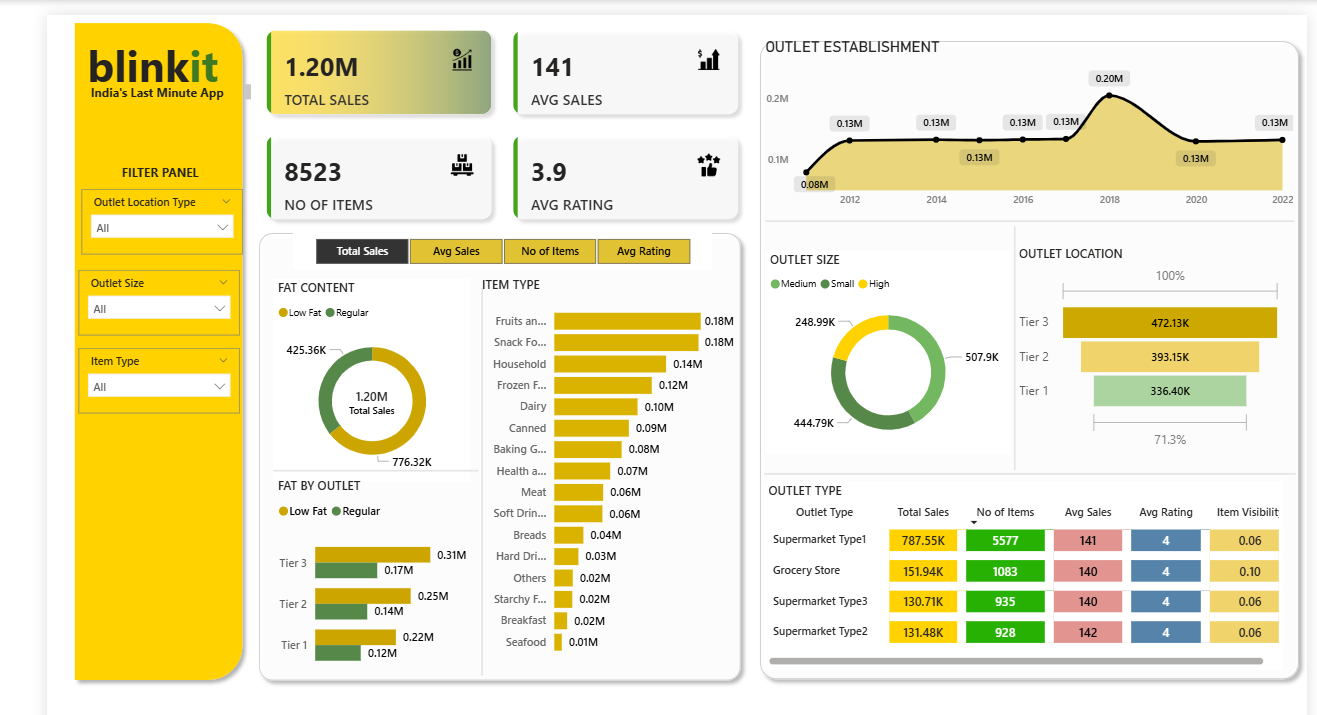

Layout of this report page (visuals, bound fields, positions):
{"tool":"powerbi","page":{"name":"Page 1","canvas":[1400,800],"ordinal":0},"visuals":[{"type":"shape","box":[22.4,0,204.5,747.8],"z":0},{"type":"textbox","box":[39.6,17.2,168.8,82.7],"z":1000},{"type":"textbox","box":[274.5,0,205,748],"z":2000},{"type":"textbox","box":[596.1,51.7,205,747.7],"z":3000},{"type":"textbox","box":[22.4,72.4,210.2,27.6],"z":4000},{"type":"cardVisual","fields":{"Data":["BlinkIT Grocery Data.Total Sales","BlinkIT Grocery Data.Avg Sales","BlinkIT Grocery Data.No of Items","BlinkIT Grocery Data.Avg Rating"]},"box":[225.9,0,558.2,245.9],"z":5000},{"type":"shape","box":[227.4,232.6,553,515.1],"z":6000},{"type":"donutChart","title":"FAT CONTENT","fields":{"Y":["BlinkIT Grocery Data.Total Sales"],"Category":["BlinkIT Grocery Data.Item Fat Content"]},"box":[251.5,292.9,218.8,225.7],"z":7000},{"type":"cardVisual","fields":{"Data":["BlinkIT Grocery Data.Total Sales"]},"box":[303.2,384.2,115.4,91.3],"z":8000},{"type":"clusteredBarChart","title":"FAT BY OUTLET","fields":{"Y":["BlinkIT Grocery Data.Total Sales"],"Category":["BlinkIT Grocery Data.Outlet Location Type"],"Series":["BlinkIT Grocery Data.Item Fat Content"]},"box":[251.5,513.4,218.8,229.1],"z":9000},{"type":"shape","box":[861.3,271.6,212.5,238.1],"z":10000},{"type":"shape","box":[377.3,303.2,213.6,430.7],"z":11000},{"type":"barChart","title":"ITEM TYPE","fields":{"Y":["BlinkIT Grocery Data.Total Sales"],"Category":["BlinkIT Grocery Data.Item Type"]},"box":[478.9,289.4,289.4,430.7],"z":12000},{"type":"shape","box":[783,20.8,616.8,727],"z":13000},{"type":"slicer","fields":{"Values":["Metrics 2.Metrics"]},"box":[273.9,241.2,465.1,41.3],"z":14000},{"type":"lineChart","title":"OUTLET ESTABLISHMENT","fields":{"Category":["BlinkIT Grocery Data.Outlet Establishment Year"],"Y":["BlinkIT Grocery Data.Total Sales"]},"box":[792.6,25.6,596,196.5],"z":15000},{"type":"shape","box":[797.6,156.8,587.5,144.7],"z":16000},{"type":"shape","box":[251.5,466.9,227.4,79.2],"z":17000},{"type":"donutChart","title":"OUTLET SIZE","fields":{"Category":["BlinkIT Grocery Data.Outlet Size"],"Y":["BlinkIT Grocery Data.Total Sales"]},"box":[797.6,261.9,272.2,225.7],"z":18000},{"type":"shape","box":[963,234.3,224,270.5],"z":19000},{"type":"funnel","title":"OUTLET LOCATION","fields":{"Y":["Sum(BlinkIT Grocery Data.Sales)"],"Category":["BlinkIT Grocery Data.Outlet Location Type"]},"box":[1075,255,301.5,230.8],"z":20000},{"type":"shape","box":[795.9,437.6,590.9,143],"z":21000},{"type":"pivotTable","title":"OUTLET TYPE","fields":{"Values":["BlinkIT Grocery Data.Total Sales","BlinkIT Grocery Data.No of Items","BlinkIT Grocery Data.Avg Sales","BlinkIT Grocery Data.Avg Rating","Avg(BlinkIT Grocery Data.Item Visibility)"],"Rows":["BlinkIT Grocery Data.Outlet Type"]},"box":[797.4,517.7,576.8,209.3],"z":22000},{"type":"slicer","fields":{"Values":["BlinkIT Grocery Data.Outlet Location Type"]},"box":[37.9,192.9,179.2,72.4],"z":23000},{"type":"slicer","fields":{"Values":["BlinkIT Grocery Data.Outlet Size"]},"box":[34.5,282.5,179.2,72.4],"z":24000},{"type":"slicer","fields":{"Values":["BlinkIT Grocery Data.Item Type"]},"box":[34.5,370.4,179.2,72.4],"z":25000},{"type":"textbox","box":[79.2,160.2,96.5,32.7],"z":26000}]}

Visuals, with their boxes on the page's 1400x800 design canvas (x1, y1, x2, y2). These are canvas units, not pixel positions in the 1317x715 screenshot, which may show the page scaled, cropped or inside an application window:
shape: locate(22, 0, 227, 748)
textbox: locate(40, 17, 208, 100)
textbox: locate(274, 0, 480, 748)
textbox: locate(596, 52, 801, 799)
textbox: locate(22, 72, 233, 100)
cardVisual - BlinkIT Grocery Data.Total Sales x BlinkIT Grocery Data.Avg Sales: locate(226, 0, 784, 246)
shape: locate(227, 233, 780, 748)
"FAT CONTENT" donutChart: locate(252, 293, 470, 519)
cardVisual - BlinkIT Grocery Data.Total Sales: locate(303, 384, 419, 476)
"FAT BY OUTLET" clusteredBarChart: locate(252, 513, 470, 742)
shape: locate(861, 272, 1074, 510)
shape: locate(377, 303, 591, 734)
"ITEM TYPE" barChart: locate(479, 289, 768, 720)
shape: locate(783, 21, 1400, 748)
slicer - Metrics 2.Metrics: locate(274, 241, 739, 282)
"OUTLET ESTABLISHMENT" lineChart: locate(793, 26, 1389, 222)
shape: locate(798, 157, 1385, 302)
shape: locate(252, 467, 479, 546)
"OUTLET SIZE" donutChart: locate(798, 262, 1070, 488)
shape: locate(963, 234, 1187, 505)
"OUTLET LOCATION" funnel: locate(1075, 255, 1376, 486)
shape: locate(796, 438, 1387, 581)
"OUTLET TYPE" pivotTable: locate(797, 518, 1374, 727)
slicer - BlinkIT Grocery Data.Outlet Location Type: locate(38, 193, 217, 265)
slicer - BlinkIT Grocery Data.Outlet Size: locate(34, 282, 214, 355)
slicer - BlinkIT Grocery Data.Item Type: locate(34, 370, 214, 443)
textbox: locate(79, 160, 176, 193)
